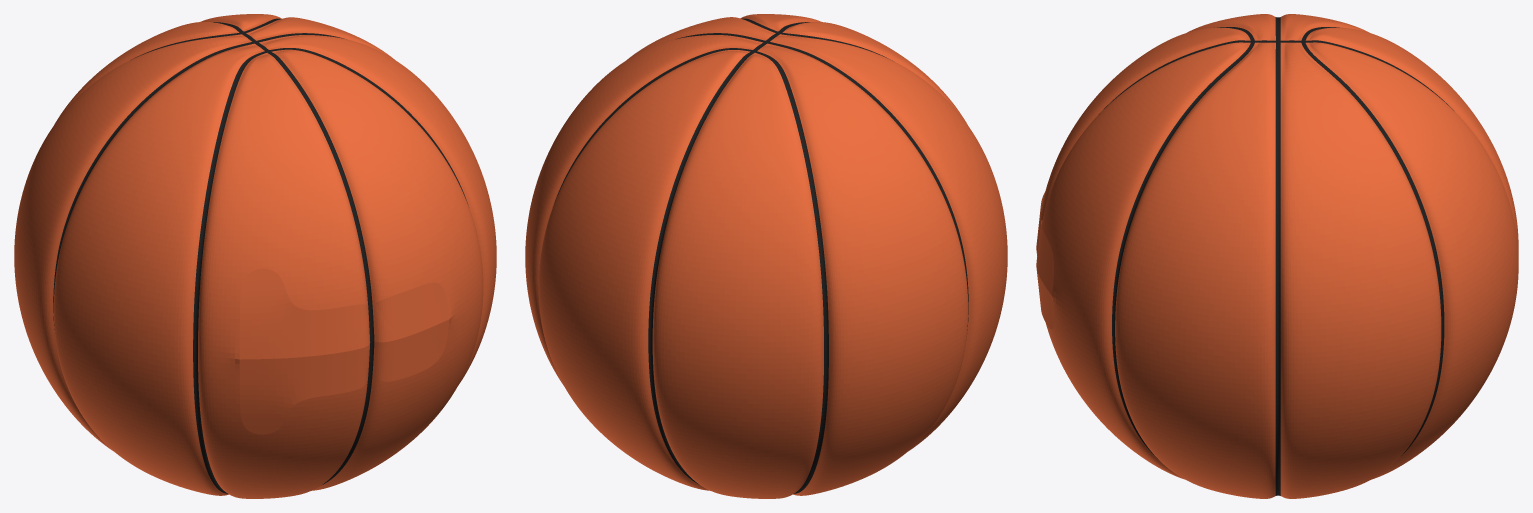
Rendered from basketballuntitled.fbx.
3 views of the same model, side by side, from view 1: azimuth 30°, elevation 25°; view 2: azimuth 150°, elevation 25°; view 3: azimuth 270°, elevation 25° (orthographic).
Parts seen in each view (by area): view 1: Sphere; view 2: Sphere; view 3: Sphere.
Boxes of the visible parts, left/top/right/bottom form: Sphere: left=14, top=14, right=496, bottom=498; Sphere: left=525, top=14, right=1007, bottom=498; Sphere: left=1036, top=14, right=1518, bottom=498.
Bounding box in the file's own units: 196 × 196 × 197.
